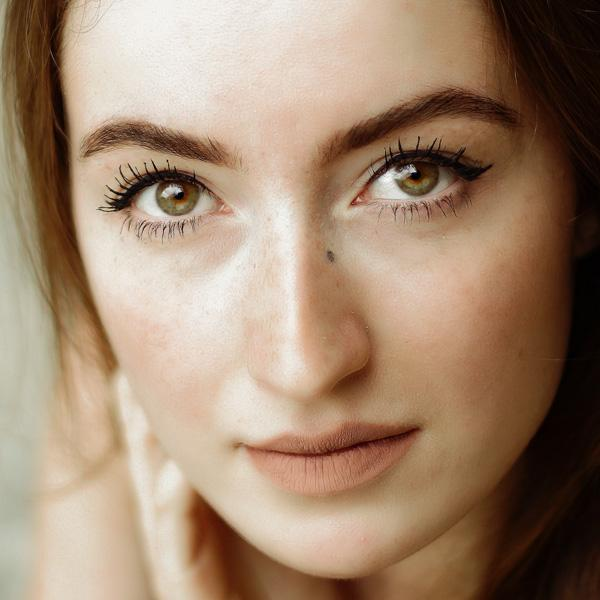Eyes: (336, 130, 500, 225), (97, 158, 239, 248)
